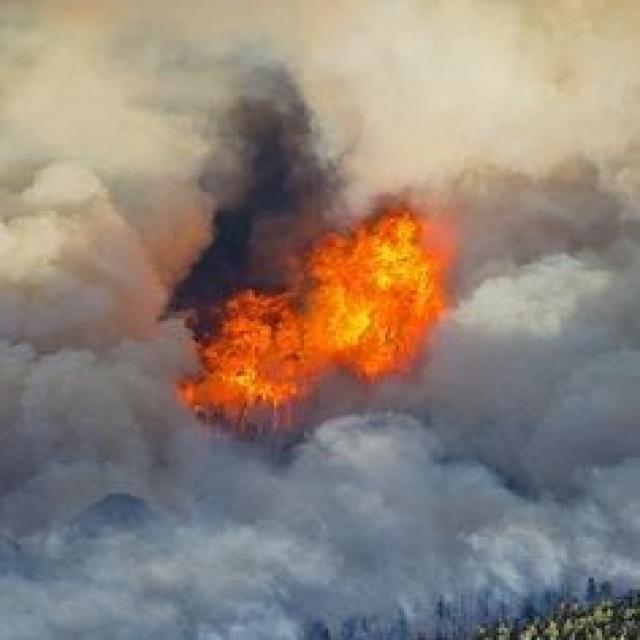Fire: (194, 218, 438, 430)
Smoke: (33, 328, 634, 620), (54, 90, 344, 294)
